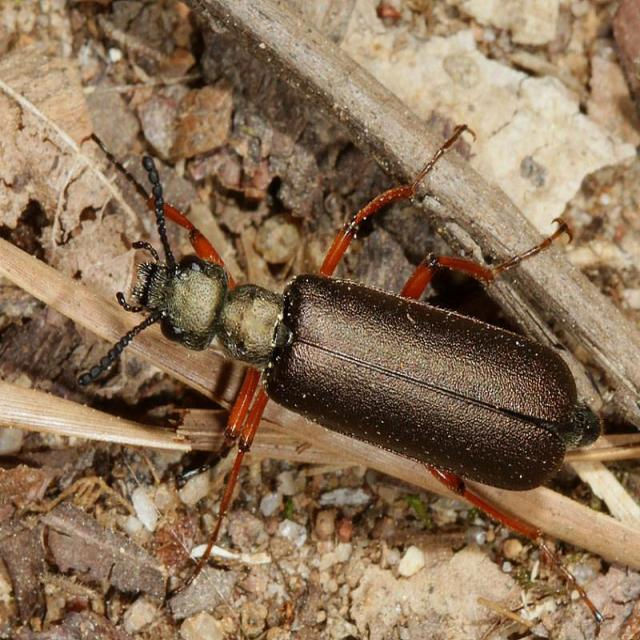BlisterBeetle-Adult-: (65, 112, 606, 552)
